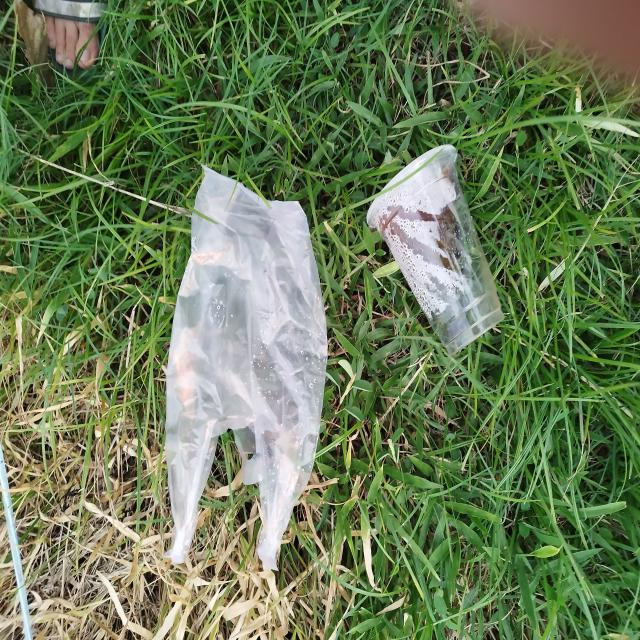bag: (165, 165, 328, 570)
drinking straw: (0, 439, 34, 640)
plastic glass: (368, 143, 505, 355)
